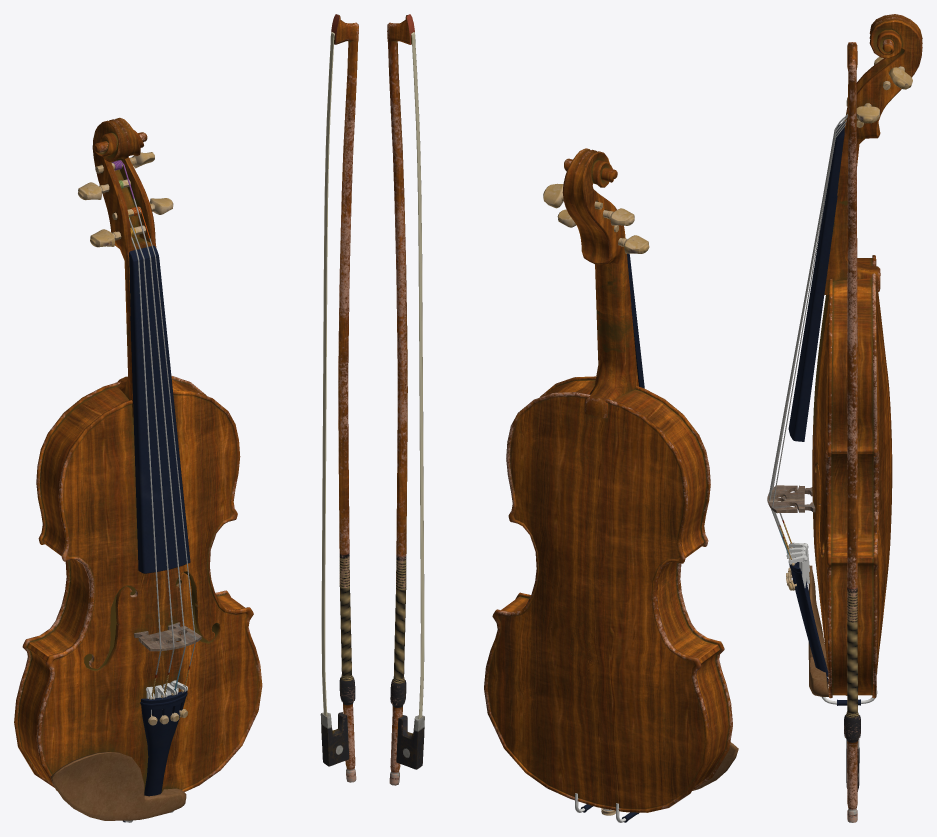
File: violin.glb
The picture shows the model from 3 angles, left to right: view 1: azimuth 30°, elevation 25°; view 2: azimuth 150°, elevation 25°; view 3: azimuth 270°, elevation 25°; orthographic projection.
Visible parts, largest first — view 1: violin_low; view 2: violin_low; view 3: violin_low.
Boxes of the visible parts, x1,y1,x2,y2 form: violin_low: (14, 14, 358, 822); violin_low: (387, 14, 738, 822); violin_low: (767, 14, 922, 822).
Size of the model in its own units: 0.9051 by 2 by 0.3641.
1 material, 1 textured.
